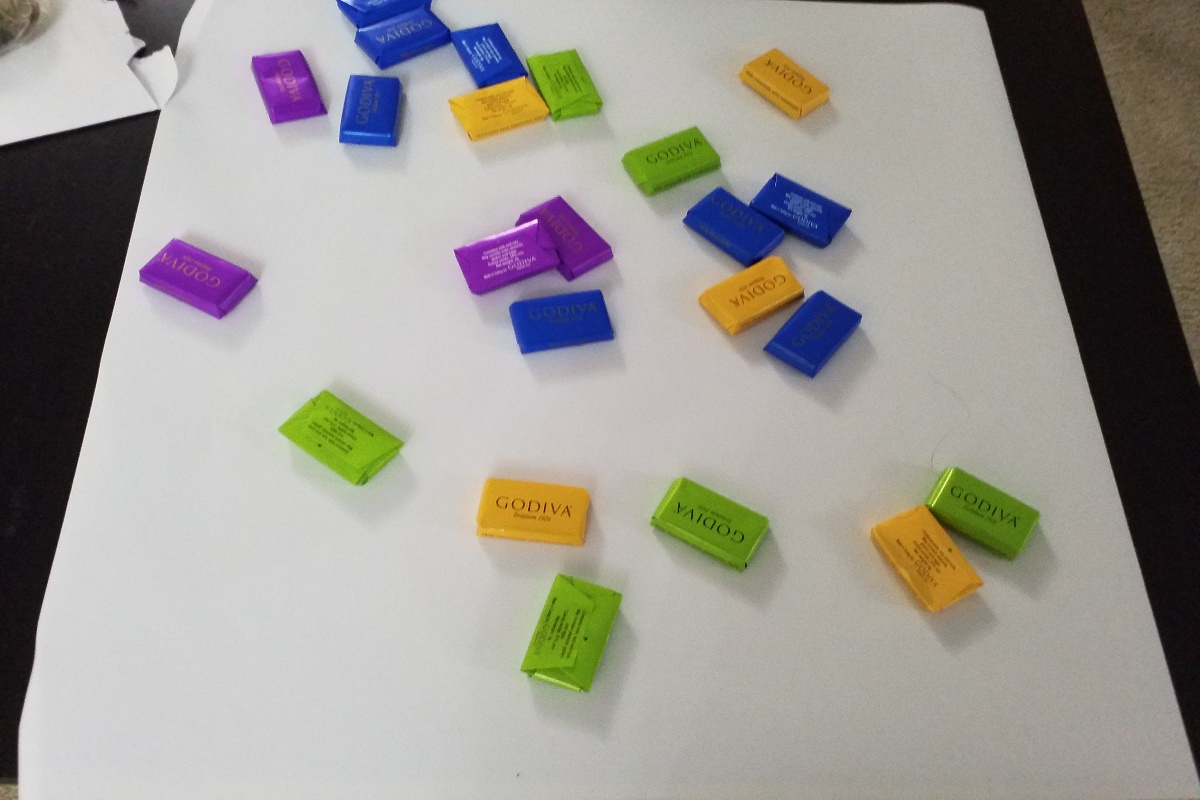chocolate_blue: (761, 291, 867, 387), (497, 296, 627, 367), (327, 70, 422, 158)
chocolate_green: (265, 379, 420, 509), (640, 457, 785, 590), (510, 569, 641, 704), (929, 457, 1049, 569), (613, 112, 729, 199), (531, 40, 606, 138)
chocolate_purple: (141, 230, 264, 324), (441, 219, 567, 295), (243, 42, 332, 140)
chocolate_yellow: (867, 502, 983, 634), (460, 470, 603, 560), (725, 41, 847, 131), (693, 255, 802, 333)
